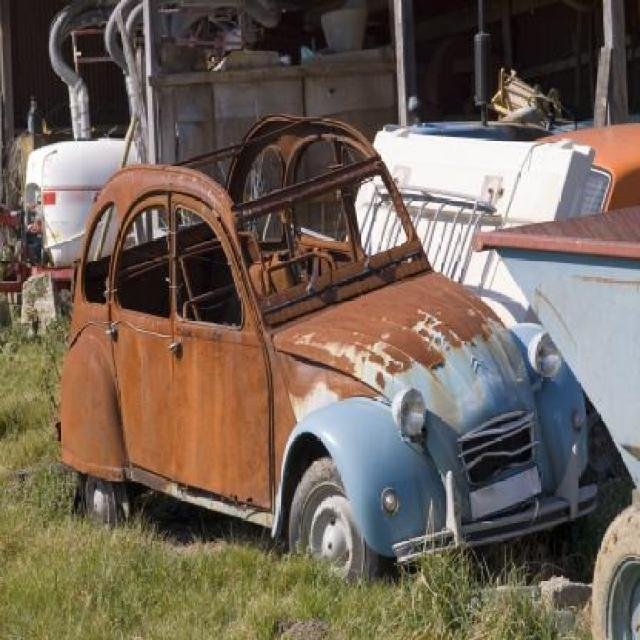corrosion: (56, 99, 590, 566)
